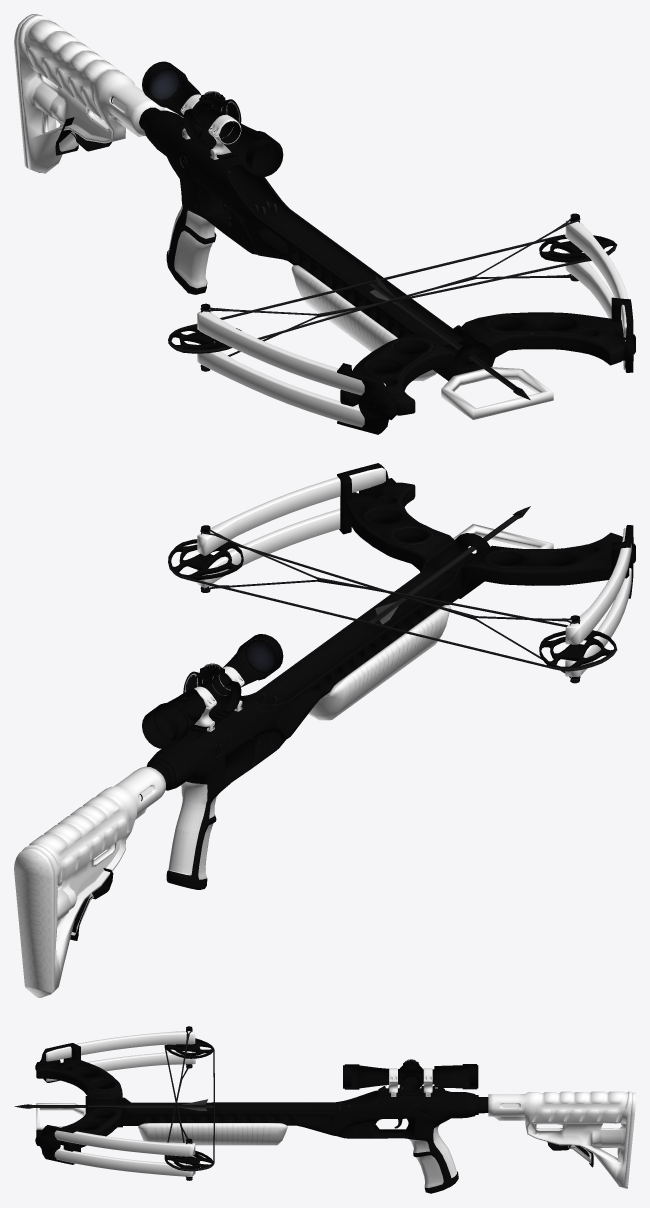
Rendered from Weapons_Crossbow01_LOD0.glb.
The picture shows the model from 3 angles, top to bottom: view 1: azimuth 30°, elevation 25°; view 2: azimuth 150°, elevation 25°; view 3: azimuth 270°, elevation 25°; orthographic projection. The views are drawn at different scales.
Visible parts, largest first — view 1: Hoodie; view 2: Hoodie; view 3: Hoodie.
Part boxes in pixels (<box>): Hoodie: <box>14,14,635,434</box>; Hoodie: <box>14,463,635,997</box>; Hoodie: <box>14,1026,635,1193</box>.
Size of the model in its own units: 0.5021 by 0.2286 by 0.9888.
Materials: 1 (1 with a texture image).
